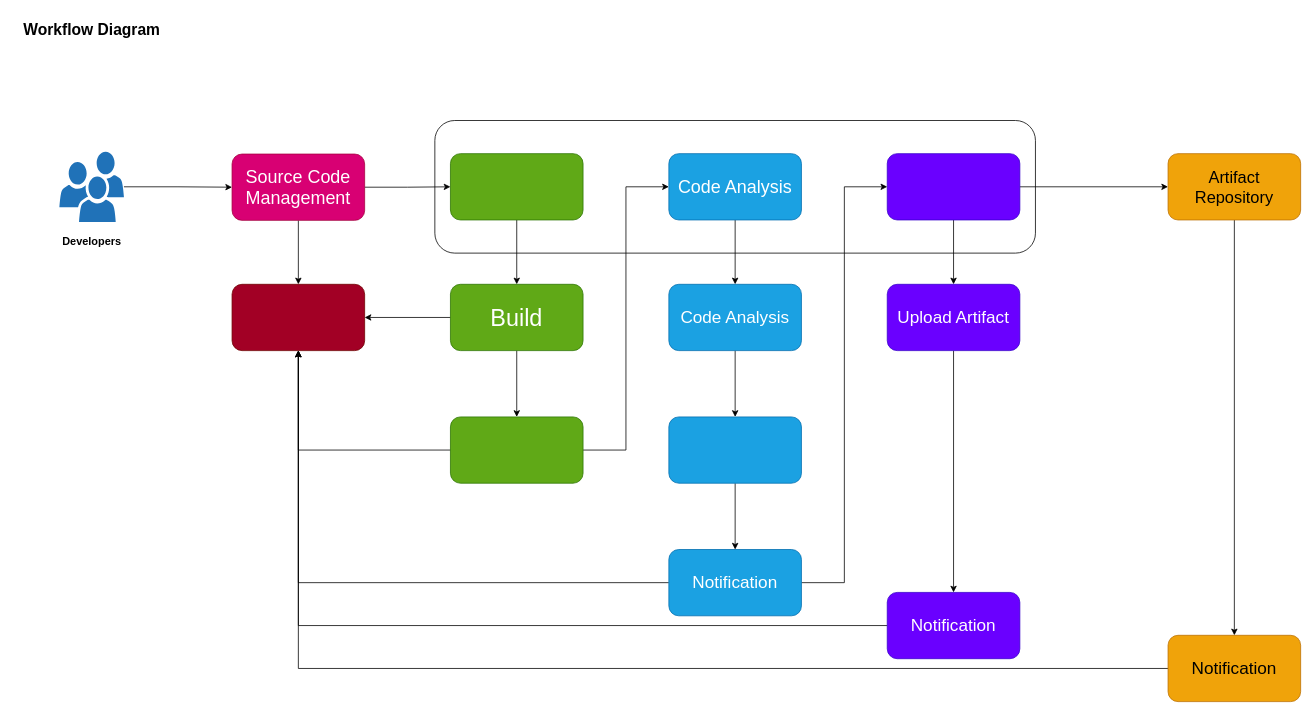
This 1314x715 diagram has some shape labels left out. The centre of each missing label's shape, as x and y in pixels:
"Fetch" belongs at (516,186).
"Quality Gates" belongs at (734,449).
"Slack/ Teams" belongs at (298,317).
"Unit Testing" belongs at (516,449).
"Version Artifact" belongs at (953,186).
